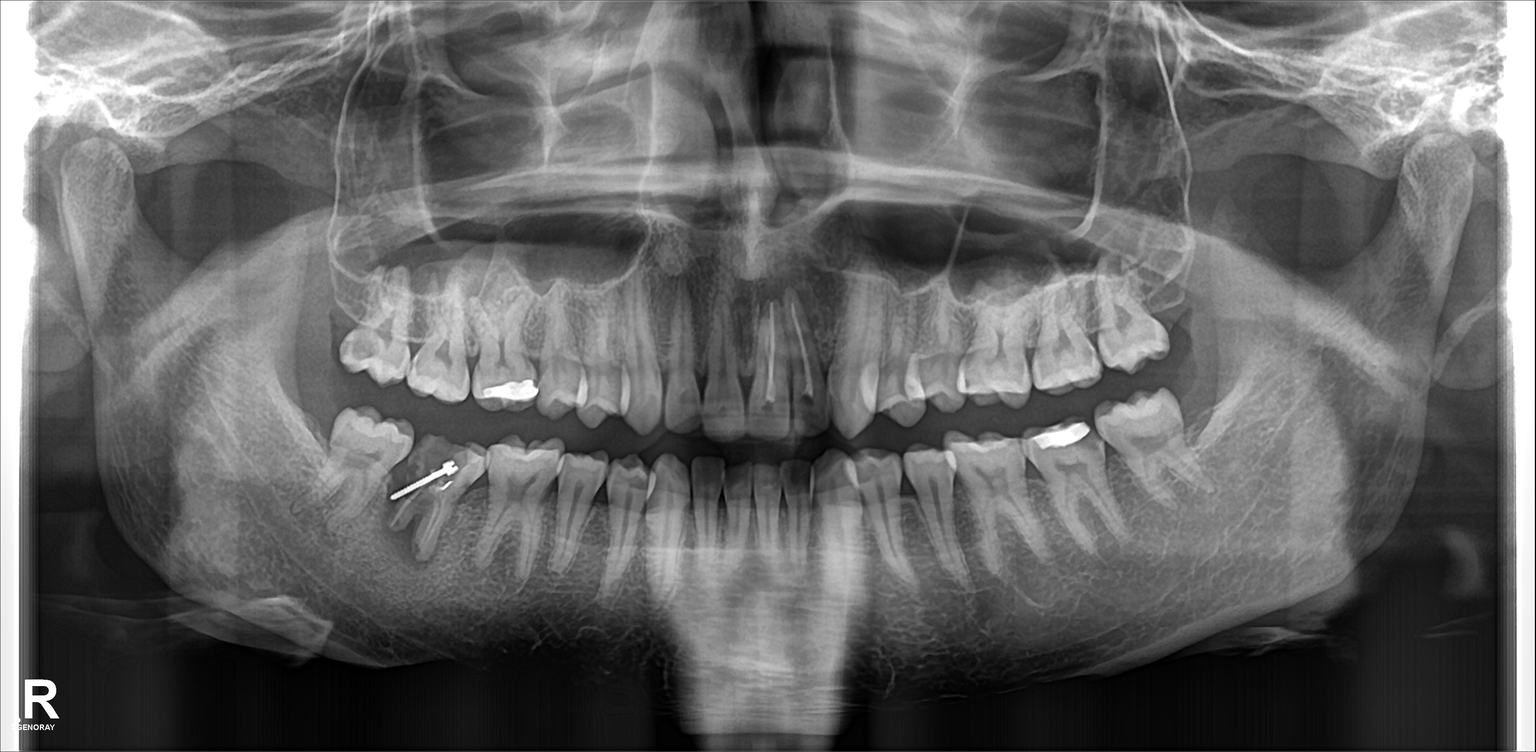Dental Caries: (784, 460, 810, 495)
Endodontically Treated Tooth: (410, 437, 465, 565), (778, 294, 825, 428), (745, 309, 790, 436)
Missing Tooth: (300, 251, 349, 374), (277, 382, 325, 487), (1155, 251, 1202, 338), (1186, 359, 1225, 431)
Periapical Lesion: (380, 456, 462, 573)
